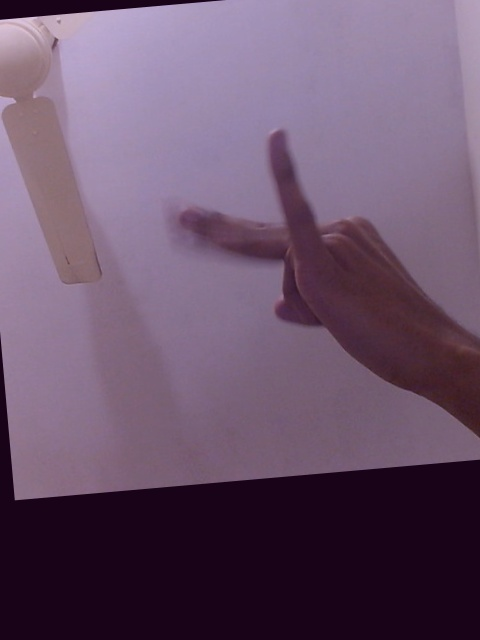hand: (165, 125, 456, 403)
